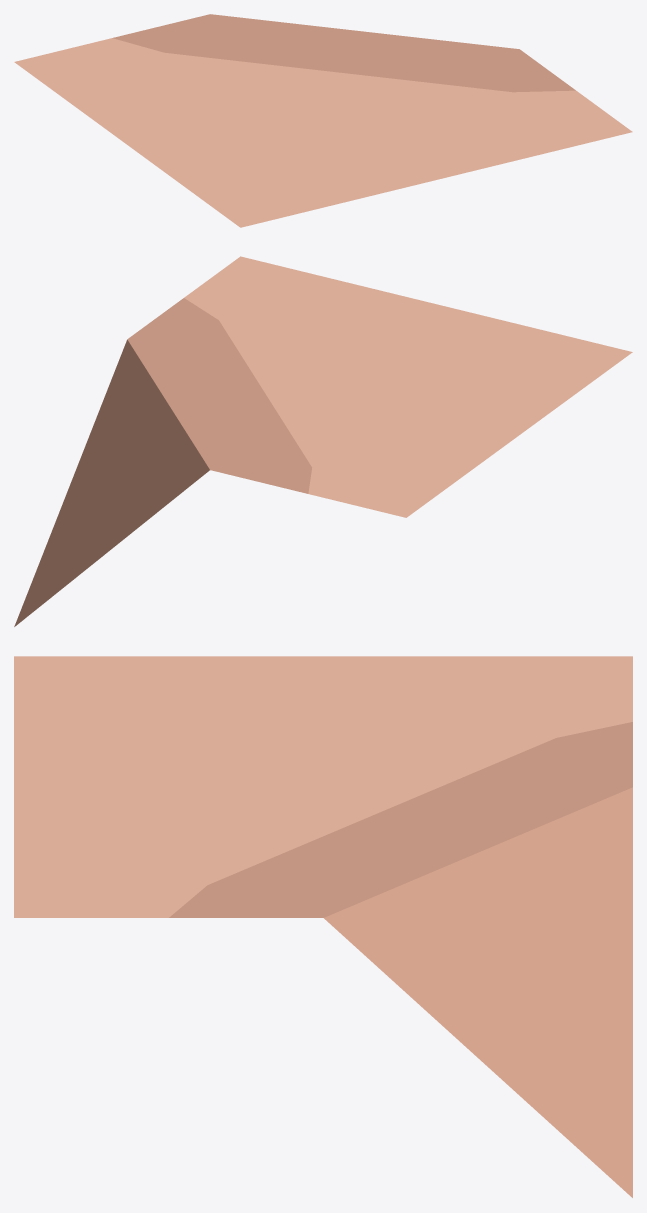
The model's file is terrain-sidecornerinner.glb.
3 views of the same model, one above another, from view 1: azimuth 30°, elevation 25°; view 2: azimuth 150°, elevation 25°; view 3: azimuth 270°, elevation 25° (orthographic). The views are drawn at different scales.
Parts seen in each view (by area): view 1: terrain_sideCornerInner; view 2: terrain_sideCornerInner; view 3: terrain_sideCornerInner.
Boxes of the visible parts, <box> form: terrain_sideCornerInner: <box>14,14,632,227</box>; terrain_sideCornerInner: <box>14,256,632,626</box>; terrain_sideCornerInner: <box>14,656,632,1197</box>.
Bounding box in the file's own units: 1 × 0.5 × 1.
